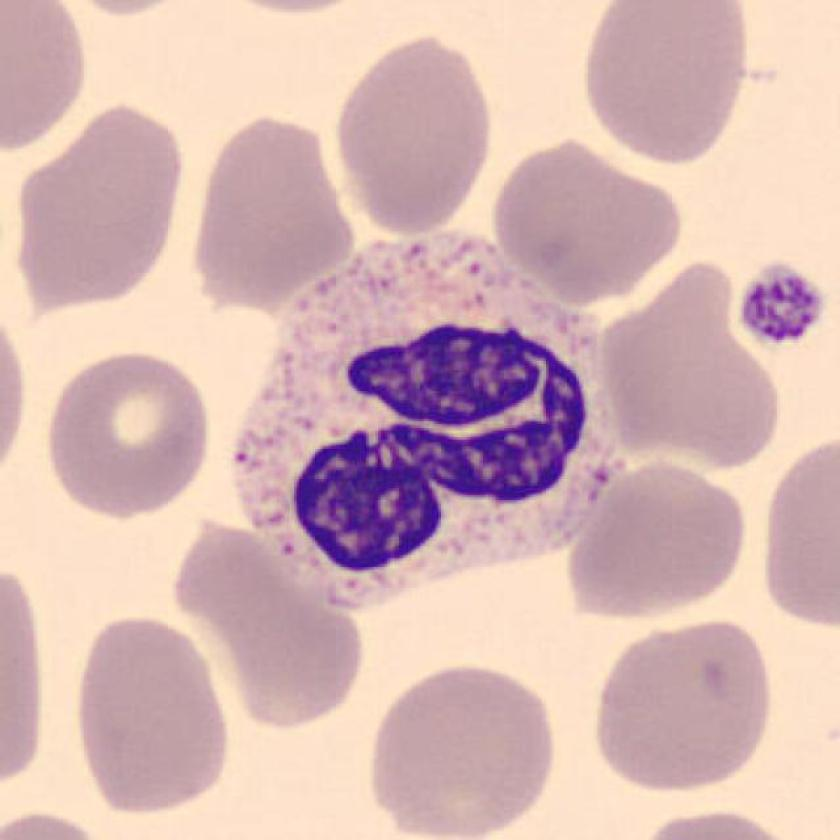neutrophil: (232, 237, 619, 606)
